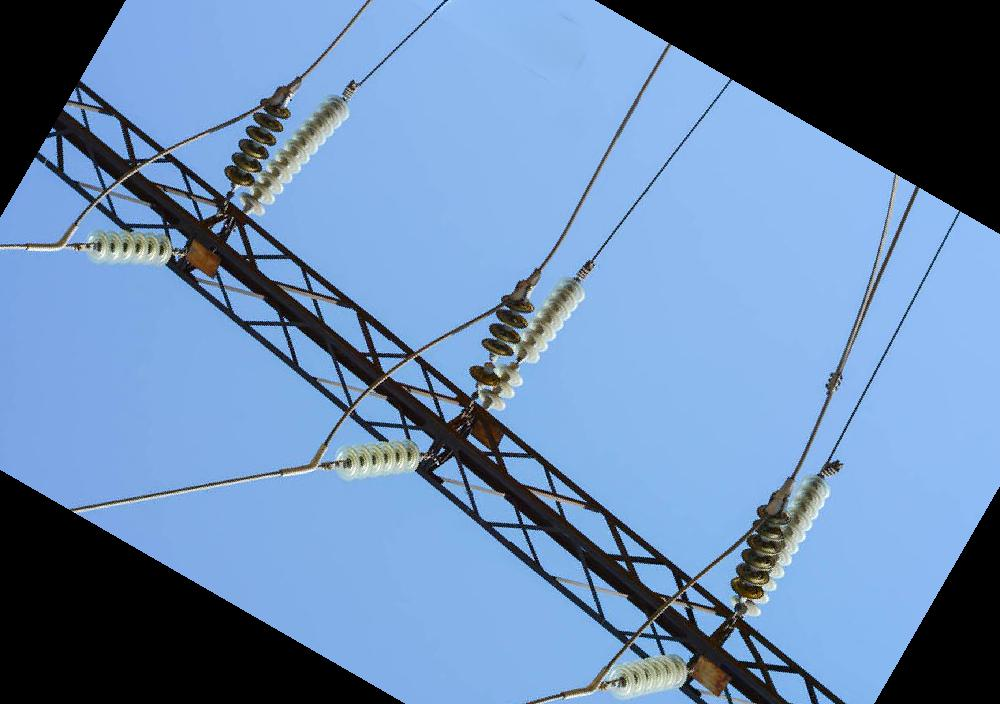insulator: (477, 271, 590, 412), (236, 89, 355, 219), (729, 470, 833, 617), (219, 94, 293, 191), (467, 292, 538, 389), (728, 501, 793, 600), (604, 650, 692, 701), (85, 226, 177, 273), (333, 437, 422, 484)
insulator_stringdrop: (467, 336, 515, 389), (497, 338, 542, 389)
